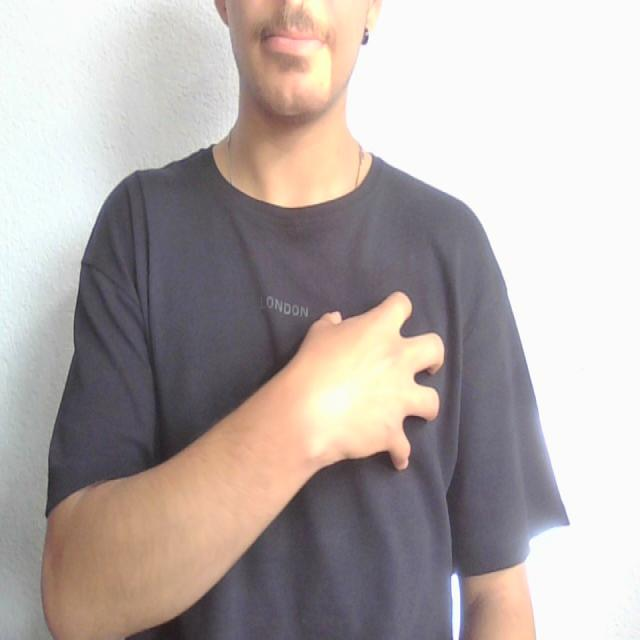Anne: (132, 275, 482, 515)
